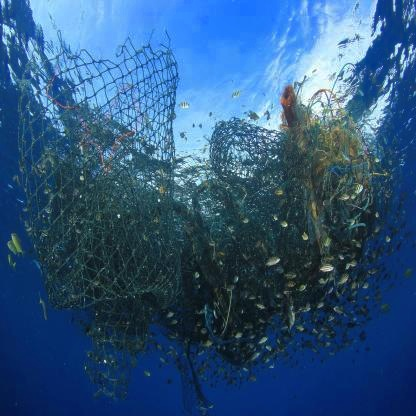net: (20, 51, 378, 340)
